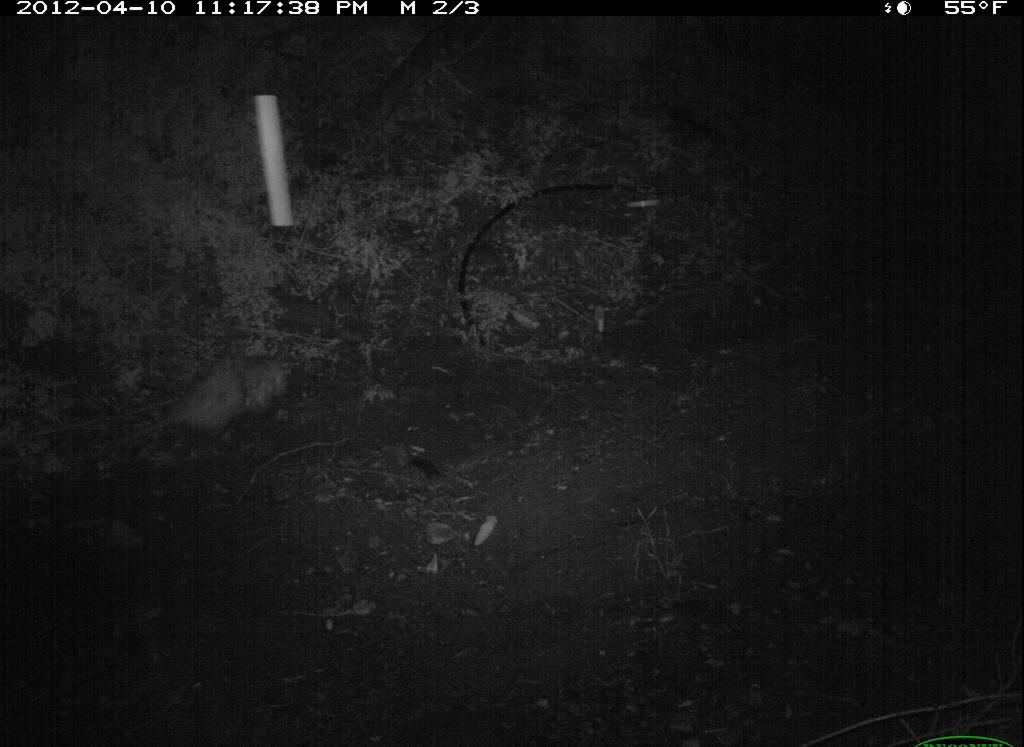opossum: (100, 349, 309, 457)
